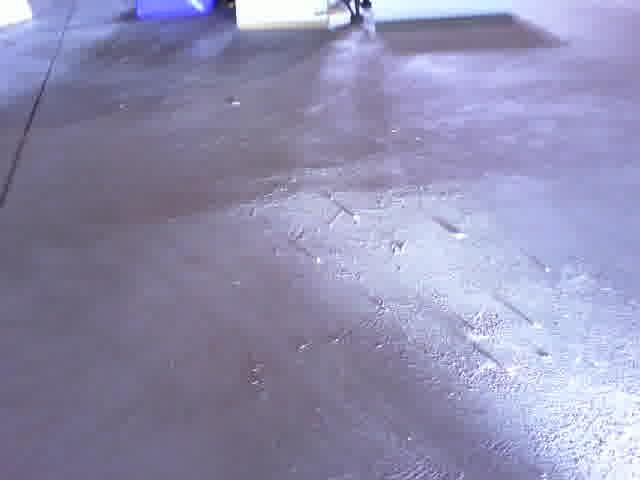coral: (367, 0, 523, 27)
